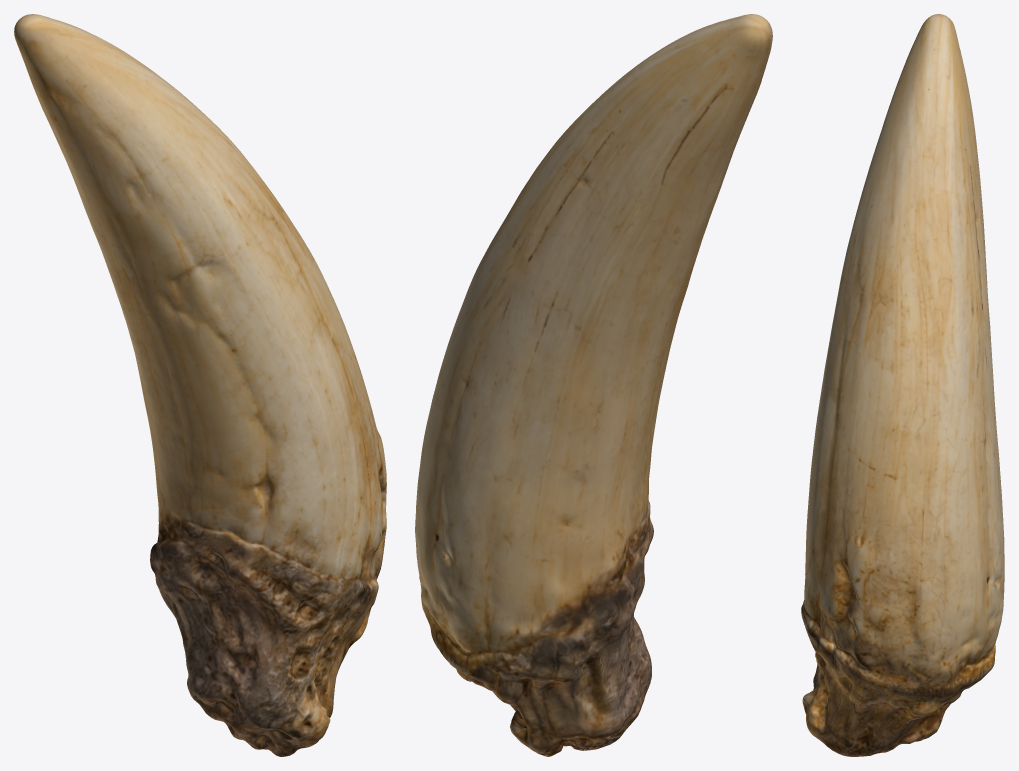
The model's file is wolf_fang.glb.
The picture shows the model from 3 angles, left to right: view 1: azimuth 30°, elevation 25°; view 2: azimuth 150°, elevation 25°; view 3: azimuth 270°, elevation 25°; orthographic projection. The views are drawn at different scales.
Parts seen in each view (by area): view 1: geometry_0; view 2: geometry_0; view 3: geometry_0.
Part boxes in pixels (x1,y1,x2,y2): geometry_0: (14,14,386,756); geometry_0: (415,14,772,756); geometry_0: (801,14,1004,756).
Bounding box in the file's own units: 0.4357 × 0.9434 × 0.2675.
Materials: 1 (1 with a texture image).
